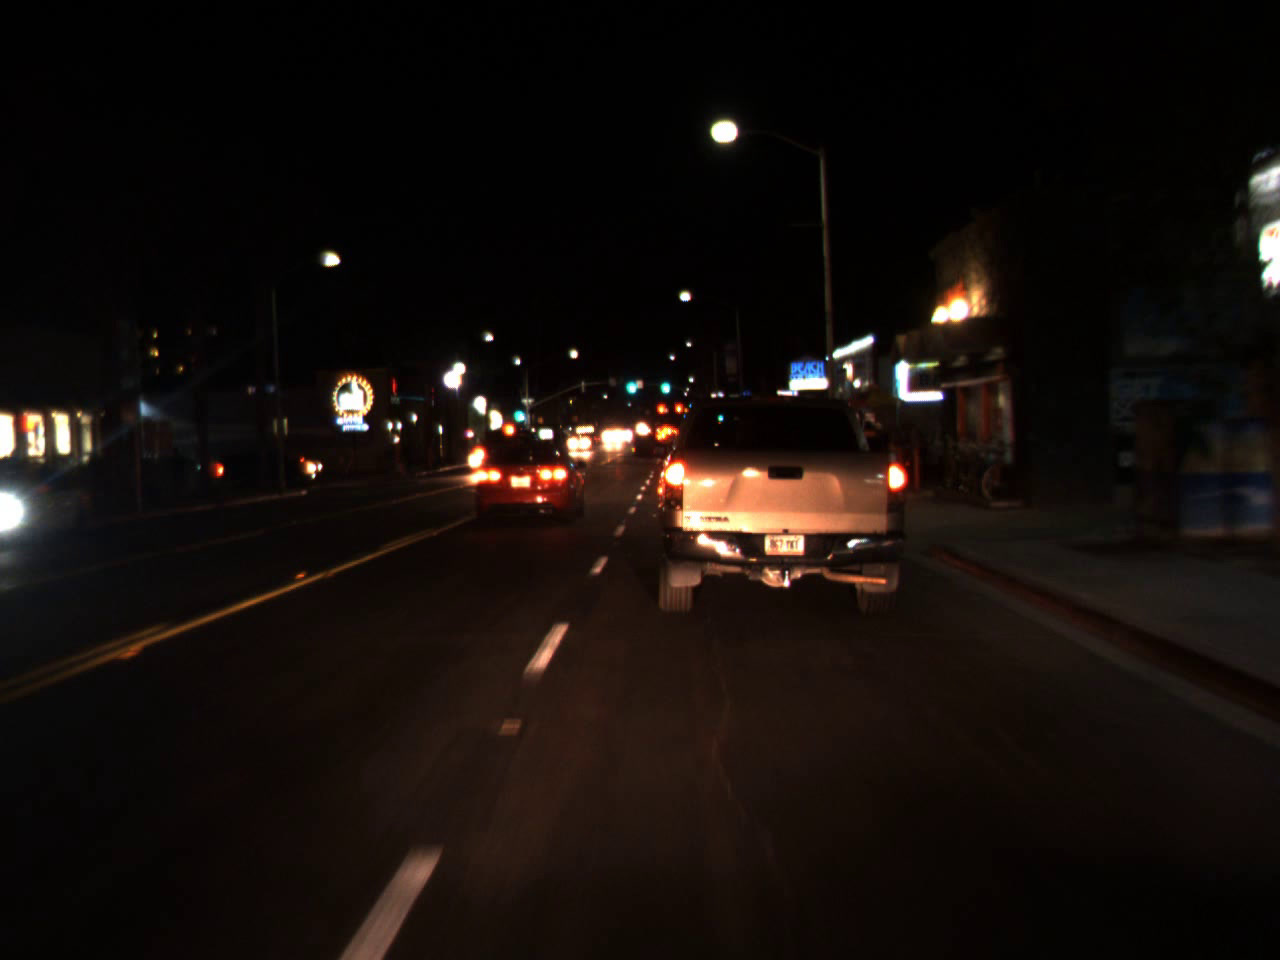go: (622, 368, 640, 398), (658, 370, 672, 397), (510, 400, 526, 424)
